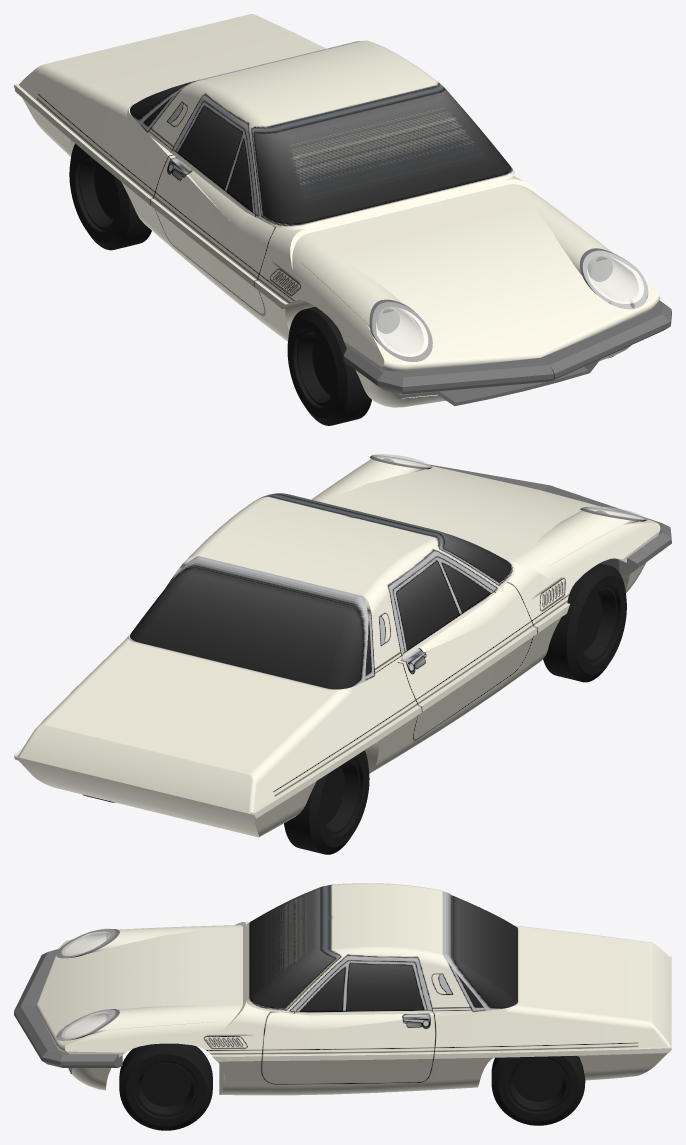
Rendered from cosmosp.glb.
The picture shows the model from 3 angles, top to bottom: view 1: azimuth 30°, elevation 25°; view 2: azimuth 150°, elevation 25°; view 3: azimuth 270°, elevation 25°; orthographic projection. The views are drawn at different scales.
Parts seen in each view (by area): view 1: cosmo; view 2: cosmo; view 3: cosmo.
Boxes of the visible parts, x1,y1,x2,y2 form: cosmo: (14, 14, 671, 425); cosmo: (14, 454, 671, 854); cosmo: (14, 883, 671, 1130).
Size of the model in its own units: 26.19 by 17.87 by 64.68.
4 materials, 1 textured.
